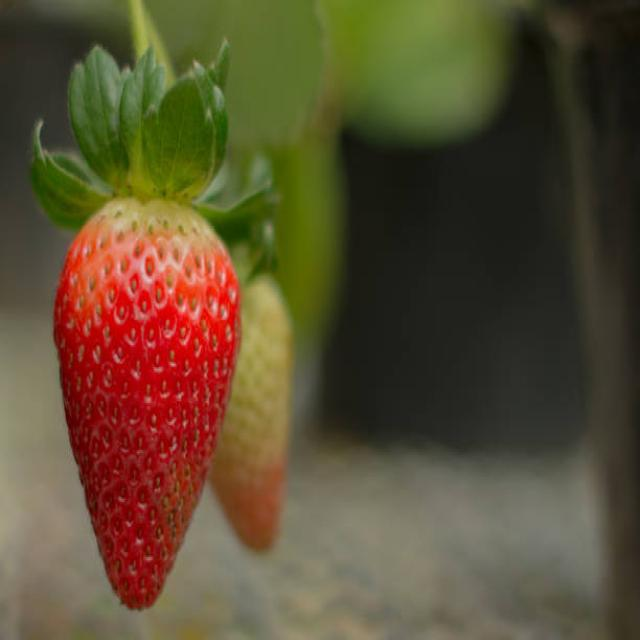Healthy Fruit: (52, 197, 241, 611)
